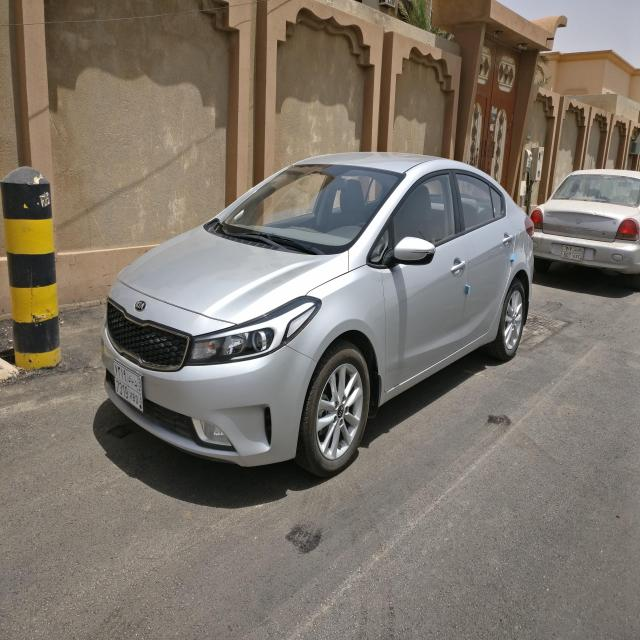license_plate: (113, 360, 142, 411), (561, 245, 584, 261)
